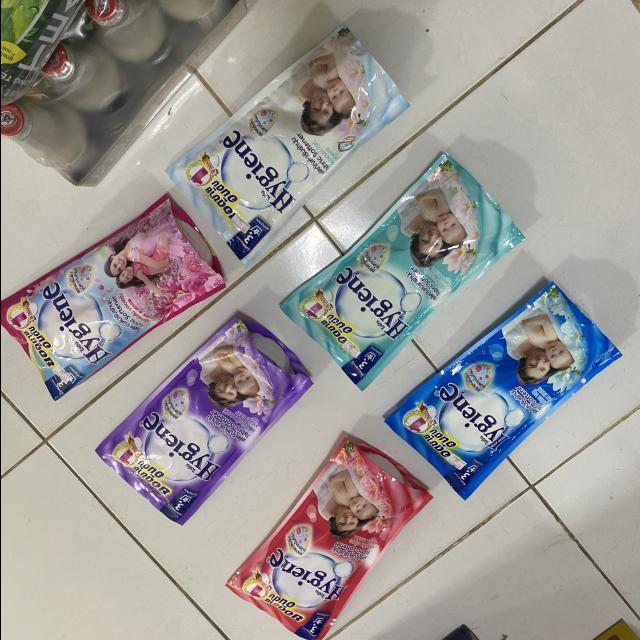plastik: (166, 25, 407, 266), (279, 153, 523, 390), (384, 283, 620, 499), (0, 194, 224, 400), (95, 318, 311, 525), (226, 439, 431, 640)
